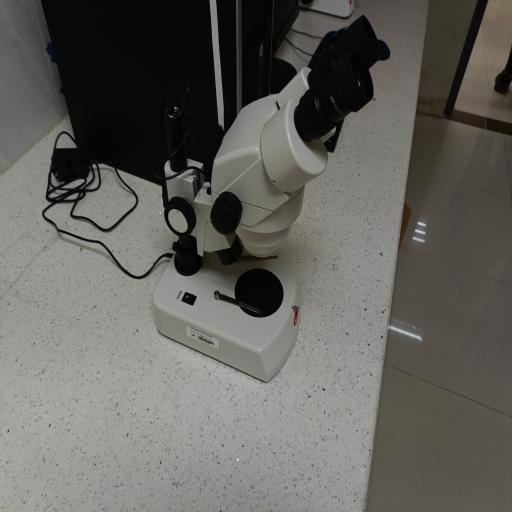Microscopio_estereo: (149, 9, 395, 394)
